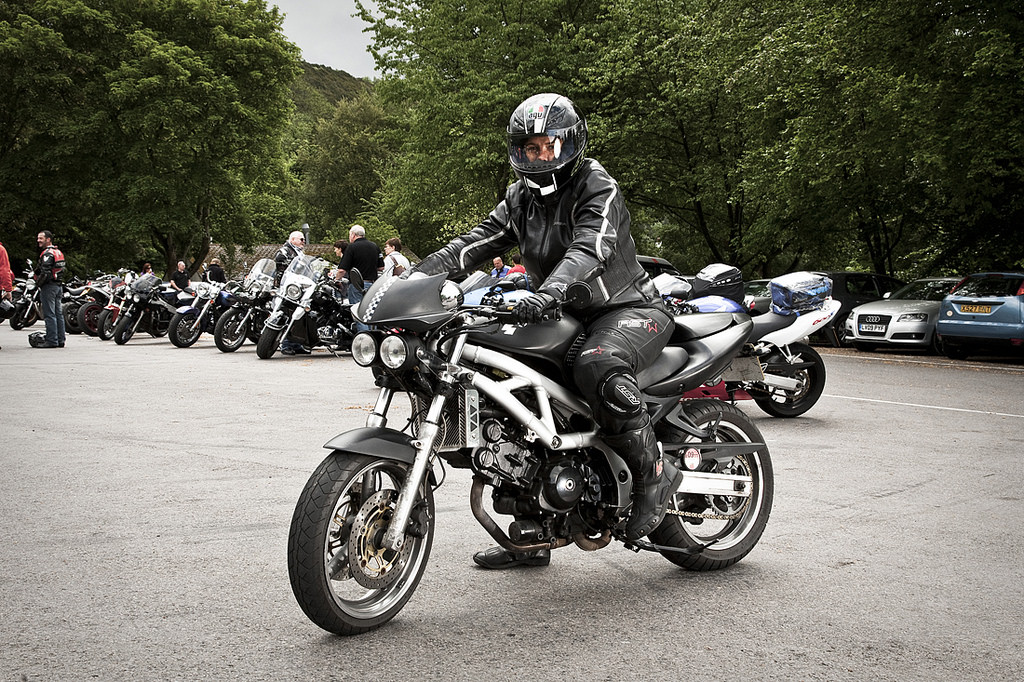with_helmet: (505, 92, 590, 186)
